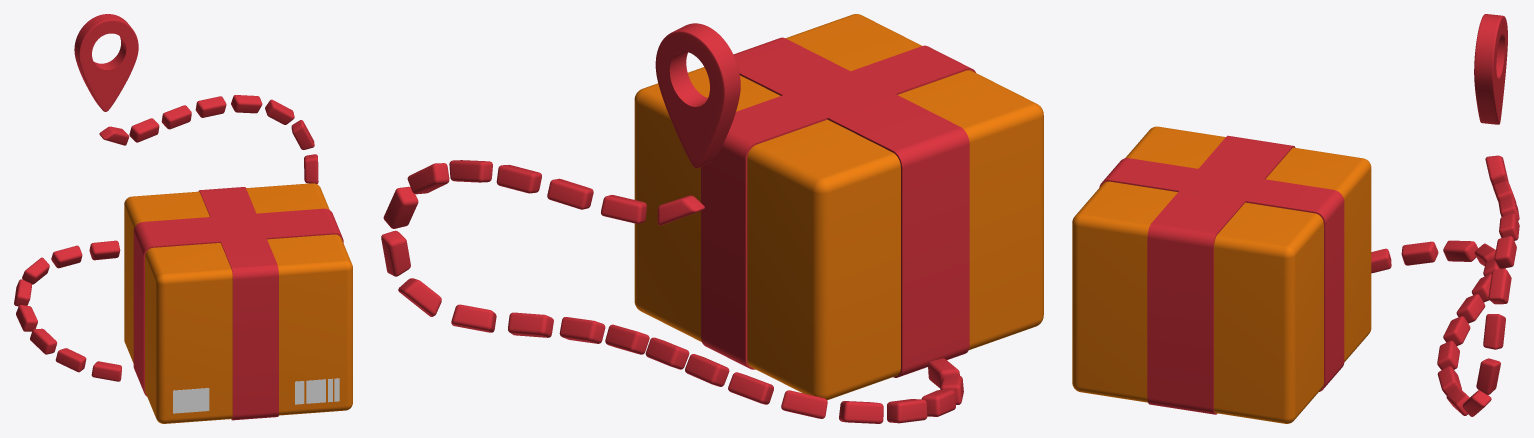
Rendered from shipment-3d-animated-icon-436115920320.glb.
3 renders of one model, left to right at view 1: azimuth 30°, elevation 25°; view 2: azimuth 150°, elevation 25°; view 3: azimuth 270°, elevation 25°, orthographic. The views are drawn at different scales.
Parts seen in each view (by area): view 1: Cube, Cube.001, Cylinder.001, Plane.002, Plane, Cube.009, Cube.008, Cube.020, Cube.021, Cube.019, Cube.003, Cube.022 (+9 smaller); view 2: Cube, Cube.001, Cylinder.001, Cube.016, Cube.021, Cube.022, Cube.013, Cube.017, Cube.020, Cube.014, Cube.012, Cube.007 (+11 smaller); view 3: Cube, Cube.001, Cylinder.001, Cube.005, Cube.017, Cube.018, Cube.016, Cube.006, Cube.019, Cube.011, Cube.010, Cube.012 (+5 smaller).
Part boxes in pixels (x1,y1,x2,y2): Cube: (124, 183, 352, 423); Cube.001: (133, 187, 343, 420); Cylinder.001: (74, 14, 138, 111); Plane.002: (295, 378, 339, 404); Plane: (173, 388, 209, 413); Cube.009: (89, 240, 120, 260); Cube.008: (51, 245, 82, 268); Cube.020: (195, 96, 226, 117); Cube.021: (161, 105, 191, 129); Cube.019: (231, 95, 262, 113); Cube.003: (55, 348, 86, 372); Cube.022: (129, 118, 159, 142); Cube: (634, 14, 1043, 400); Cube.001: (701, 37, 975, 377); Cylinder.001: (655, 23, 740, 168); Cube.016: (381, 230, 410, 276); Cube.021: (547, 178, 593, 209); Cube.022: (601, 195, 646, 223); Cube.013: (508, 312, 553, 337); Cube.017: (383, 186, 418, 228); Cube.020: (496, 165, 541, 193); Cube.014: (451, 304, 496, 332); Cube.012: (559, 317, 605, 343); Cube.007: (781, 390, 827, 418); Cube: (1072, 126, 1371, 423); Cube.001: (1099, 135, 1344, 414); Cylinder.001: (1474, 14, 1507, 124); Cube.005: (1401, 241, 1438, 265); Cube.017: (1483, 314, 1505, 349); Cube.018: (1488, 269, 1511, 304); Cube.016: (1476, 358, 1500, 394); Cube.006: (1443, 240, 1478, 261); Cube.019: (1494, 236, 1516, 268); Cube.011: (1443, 316, 1470, 345); Cube.010: (1456, 294, 1485, 323); Cube.012: (1437, 340, 1459, 369).
Bounding box in the file's own units: 2.76 × 2.26 × 2.72.
